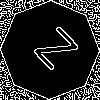Z: (25, 25, 80, 79)
